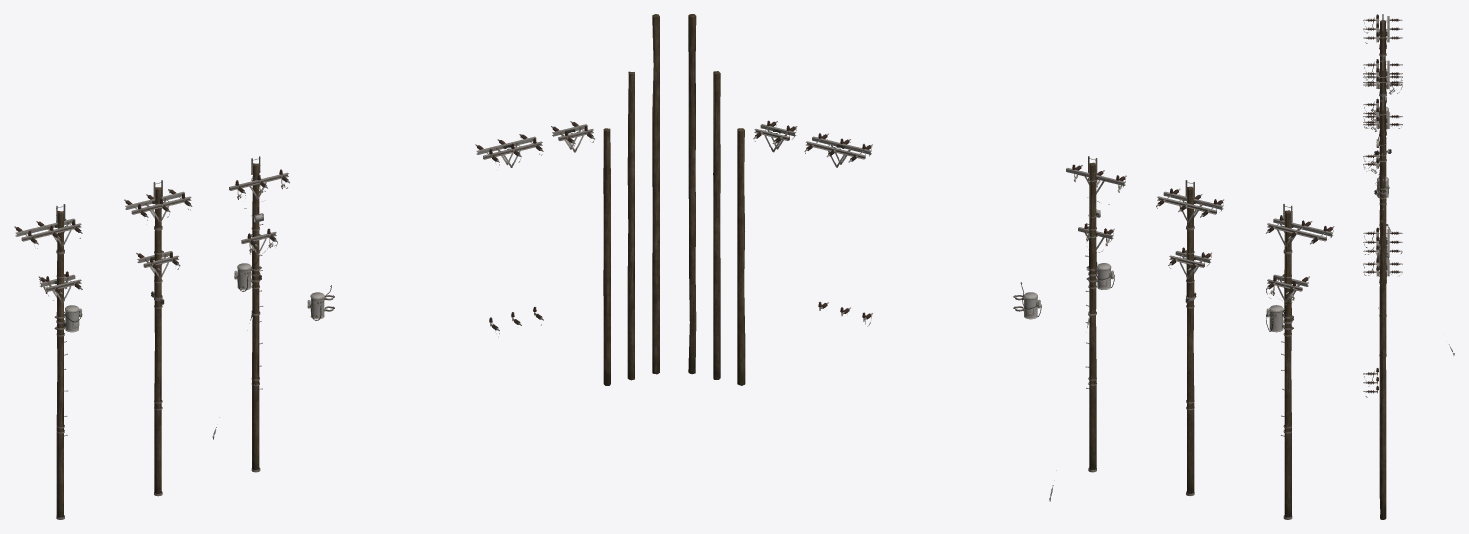
Rendered from modular_electricity_poles.glb.
3 renders of one model, left to right at view 1: azimuth 30°, elevation 25°; view 2: azimuth 150°, elevation 25°; view 3: azimuth 270°, elevation 25°, orthographic. The views are drawn at different scales.
Visible parts, largest first — view 1: pole_large_mesh, pole_mesh, preset_02_pole, preset_01_pole, preset_03, preset_03_pole, pole_small_mesh, preset_01, preset_02_cap, connection_large_01_mesh; view 2: pole_large_mesh, pole_mesh, preset_01_pole, preset_03_pole, preset_03, preset_02_pole, pole_small_mesh, preset_01, preset_02_cap, connection_large_01_mesh; view 3: pole_large_mesh, preset_01, preset_01_pole, preset_03, preset_02_cap, connection_large_01_mesh, pole_mesh, connection_small_01_mesh, pole_small_mesh, preset_03_pole, preset_02_pole, insulators_large_mesh.
Part boxes in pixels (x1,y1,x2,y2): pole_large_mesh: (652, 14, 659, 374); pole_mesh: (627, 71, 634, 380); preset_02_pole: (154, 187, 161, 493); preset_01_pole: (252, 163, 259, 470); preset_03: (14, 204, 82, 519); preset_03_pole: (56, 211, 63, 517); pole_small_mesh: (603, 128, 610, 385); preset_01: (212, 156, 289, 472); preset_02_cap: (124, 180, 192, 496); connection_large_01_mesh: (475, 134, 543, 167); pole_large_mesh: (688, 14, 696, 374); pole_mesh: (713, 71, 720, 379); preset_01_pole: (1089, 162, 1096, 469); preset_03_pole: (1284, 210, 1291, 517); preset_03: (1266, 204, 1334, 519); preset_02_pole: (1186, 186, 1194, 493); pole_small_mesh: (737, 128, 745, 385); preset_01: (1049, 156, 1126, 501); preset_02_cap: (1156, 180, 1224, 496); connection_large_01_mesh: (804, 133, 872, 167); pole_large_mesh: (1380, 219, 1386, 519); preset_01: (1363, 93, 1454, 356); preset_01_pole: (1379, 99, 1386, 354); preset_03: (1363, 14, 1402, 276); preset_02_cap: (1363, 54, 1402, 316); connection_large_01_mesh: (1363, 227, 1402, 257); pole_mesh: (1379, 254, 1386, 508); connection_small_01_mesh: (1363, 258, 1402, 283); pole_small_mesh: (1379, 286, 1385, 498); preset_03_pole: (1379, 20, 1386, 176); preset_02_pole: (1379, 60, 1386, 216); insulators_large_mesh: (1363, 368, 1378, 397).
Size of the model in its own units: 13.11 by 7 by 1.96.
Materials: 2 (2 with a texture image).
